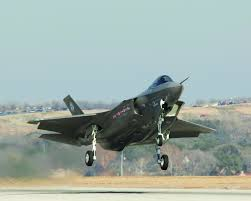fighter: (26, 72, 218, 170)
